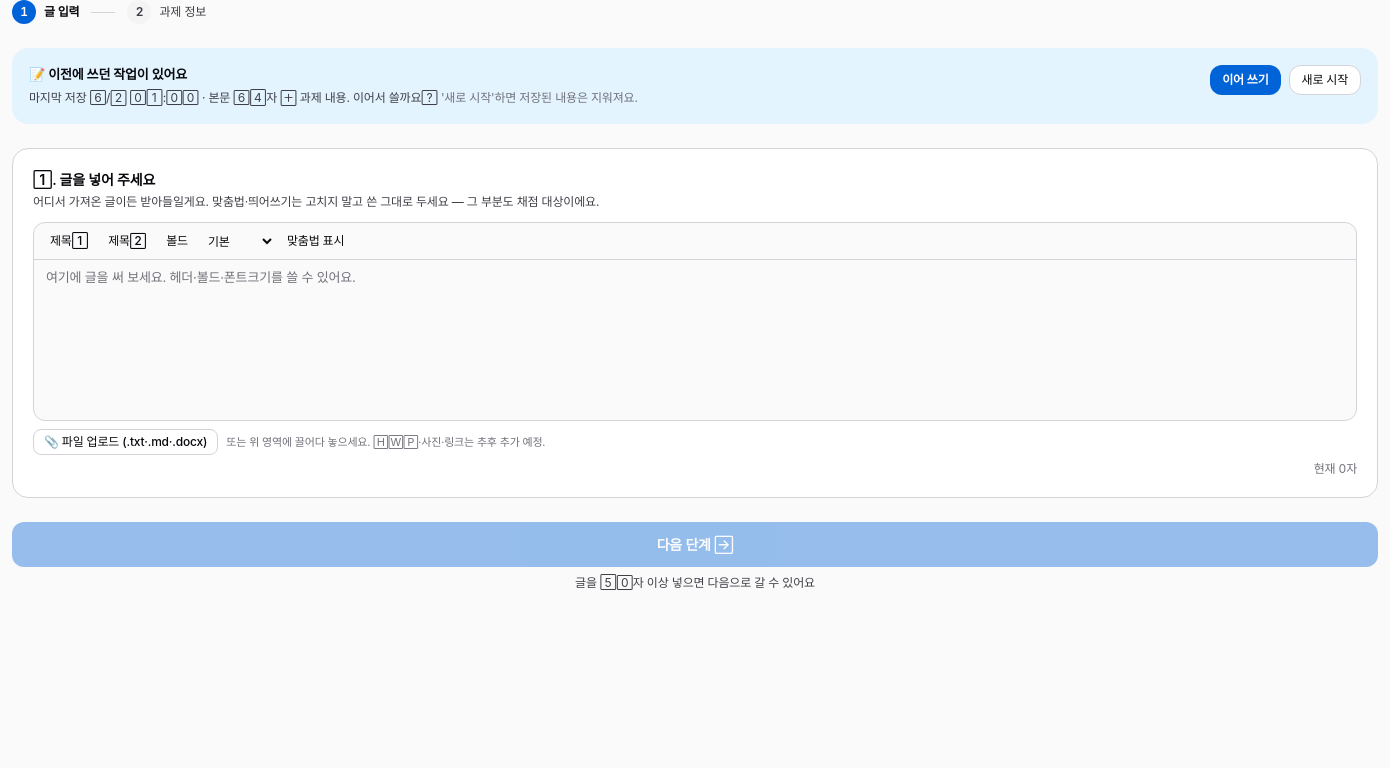
Test: ScoreWizard › [migrated] draft [이어 쓰기] → Step 2 진입 시 meta 복원
Click the button "이어 쓰기".
click(1245, 80)  # box [1210, 65, 1280, 95]
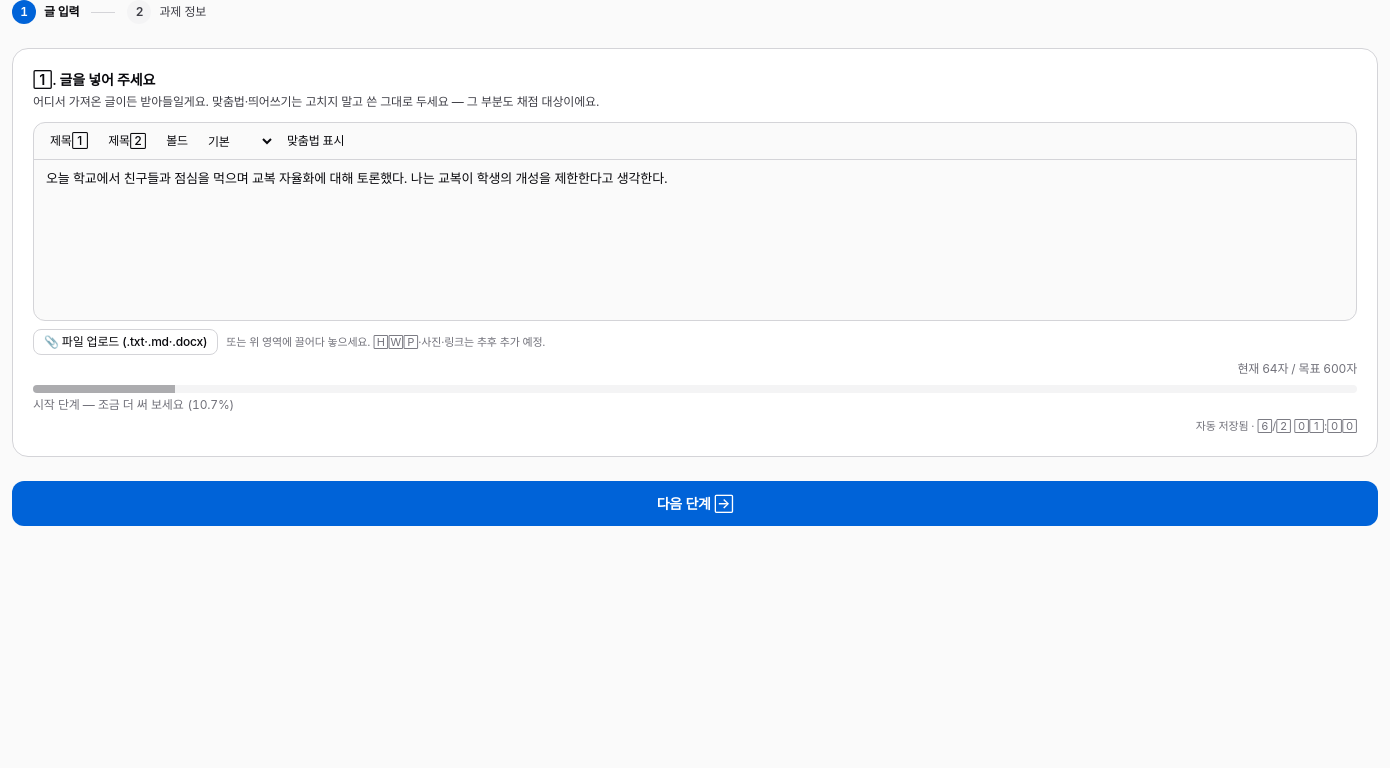
Expected: the field with id "body" reads "오늘 학교에서 친구들과 점심을 먹으며 교복 자율화에 대해 토론했다. 나는 교복이 학생의 개성을 제한한다고 생각한다.", [46, 170, 668, 186]
Expected: the button "다음 단계 →" is enabled
Note: Step 2 진입해 meta 검증
Click the button "다음 단계 →".
click(695, 503)  # box [12, 481, 1378, 526]
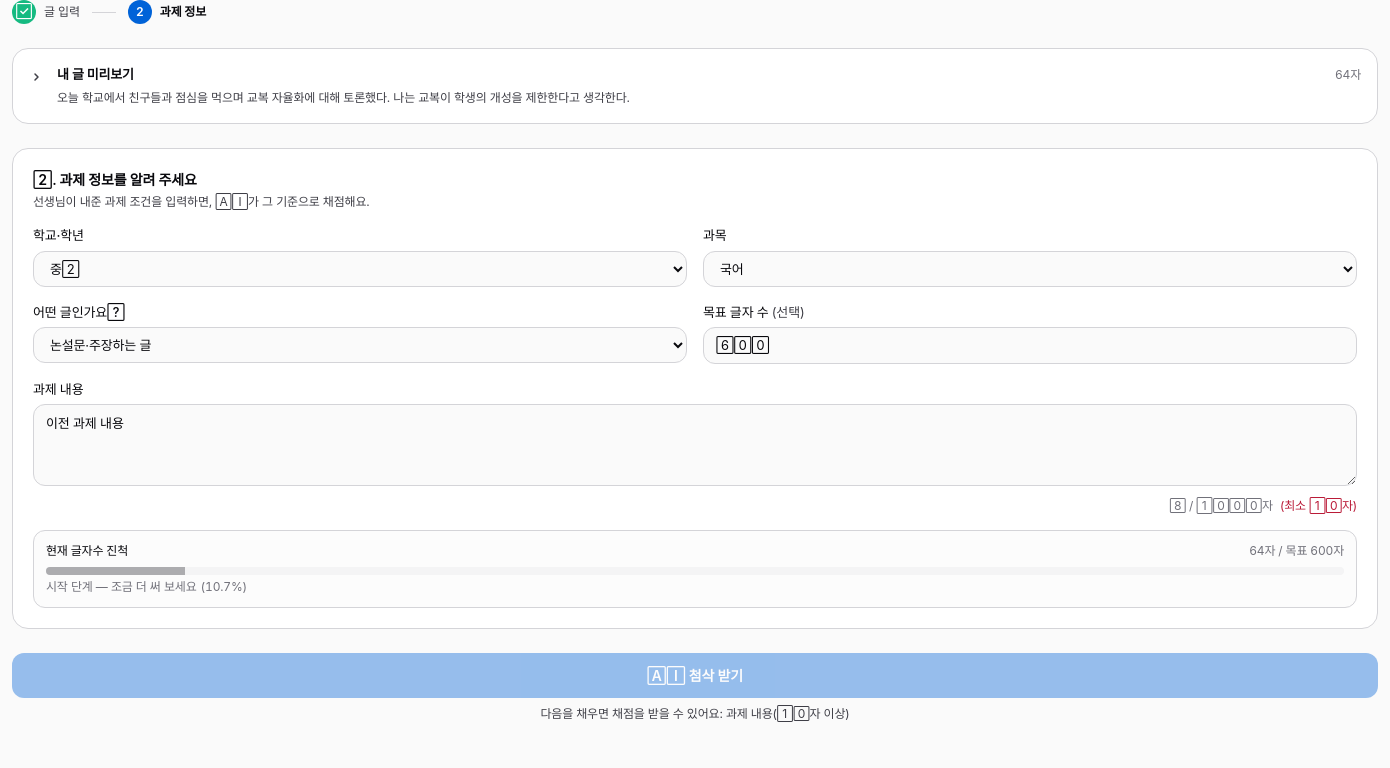
Expected: the dropdown labelled "학교·학년" shows "중2", [33, 251, 687, 287]
Expected: the dropdown labelled "과목" shows "국어", [703, 251, 1357, 287]
Expected: the text box labelled "과제 내용" holds "이전 과제 내용", [33, 404, 1357, 486]
